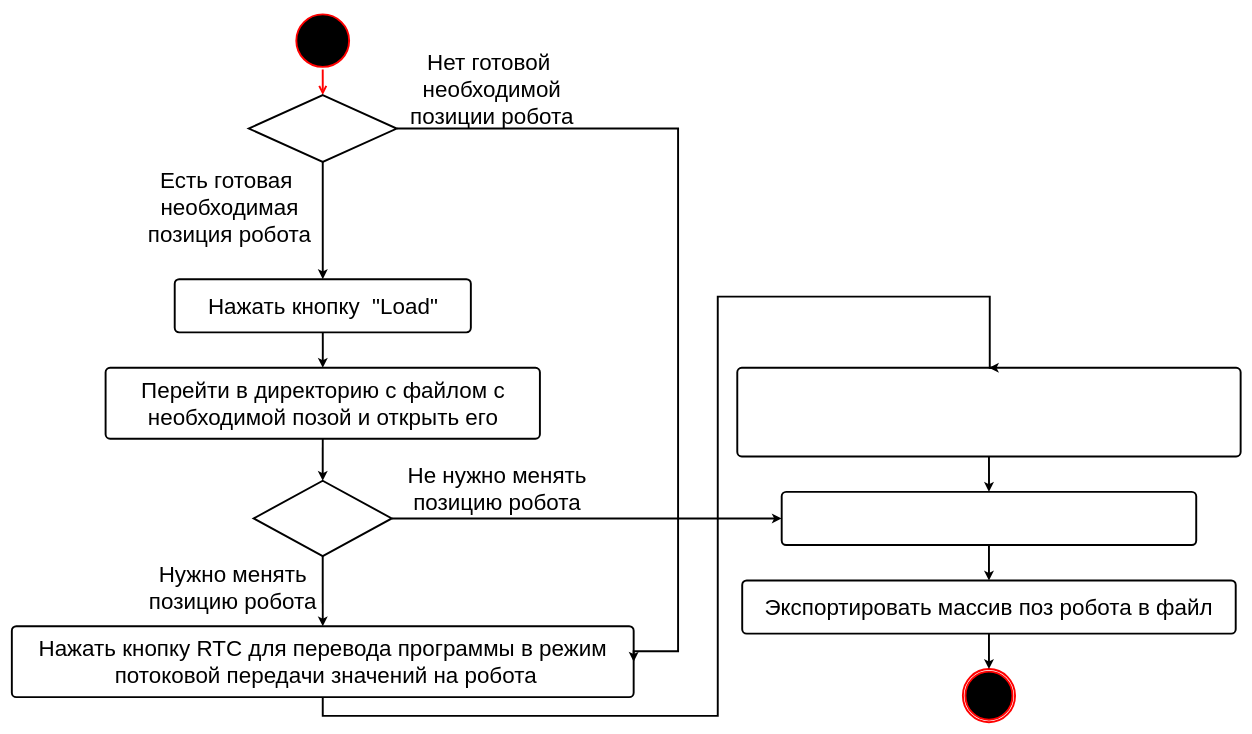
Image size: 1252x734. Some labels were removed from this diagram. Each missing label, with the centre of its shape:
Записать позу робота в программе: the point at 988,518
Изменить положение слайдера, отвечающего за необходимый сервопривод: the point at 988,412
